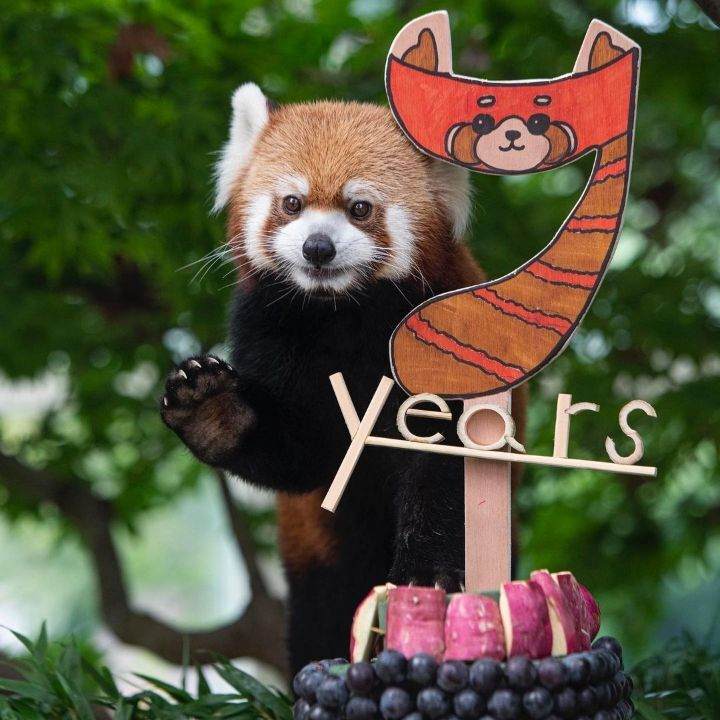redPanda: (165, 78, 486, 595)
